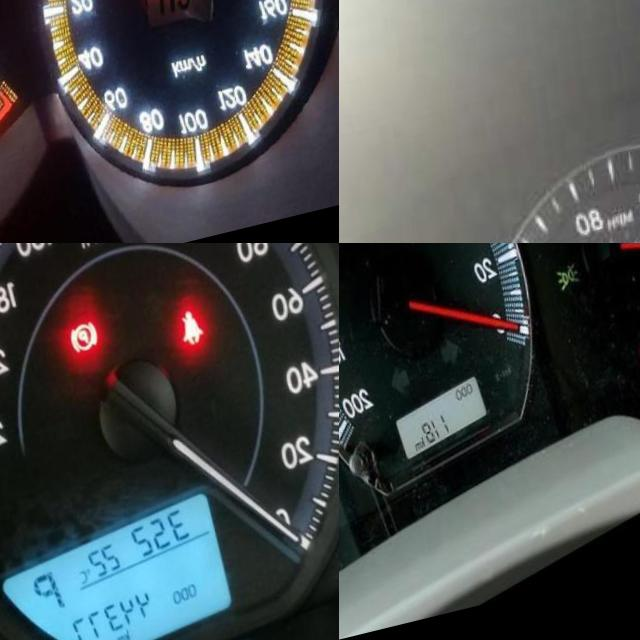Seat Belt: (175, 324, 200, 369)
